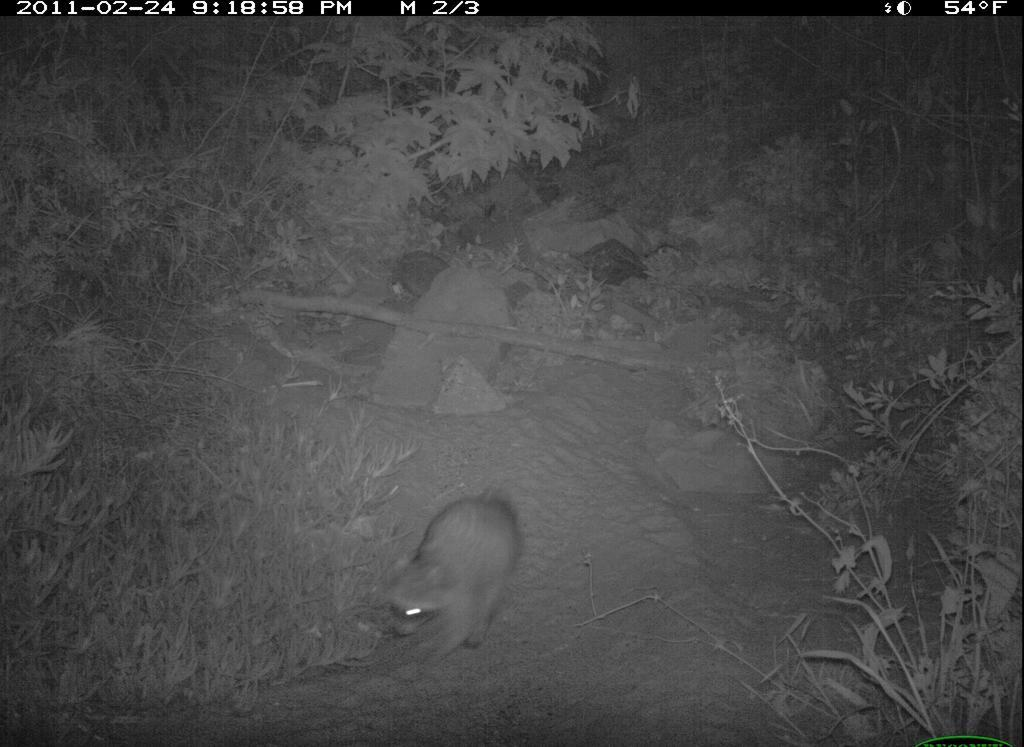raccoon: (382, 489, 528, 667)
